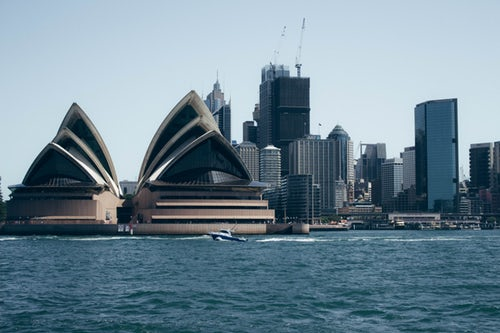opera house: (8, 81, 285, 246)
